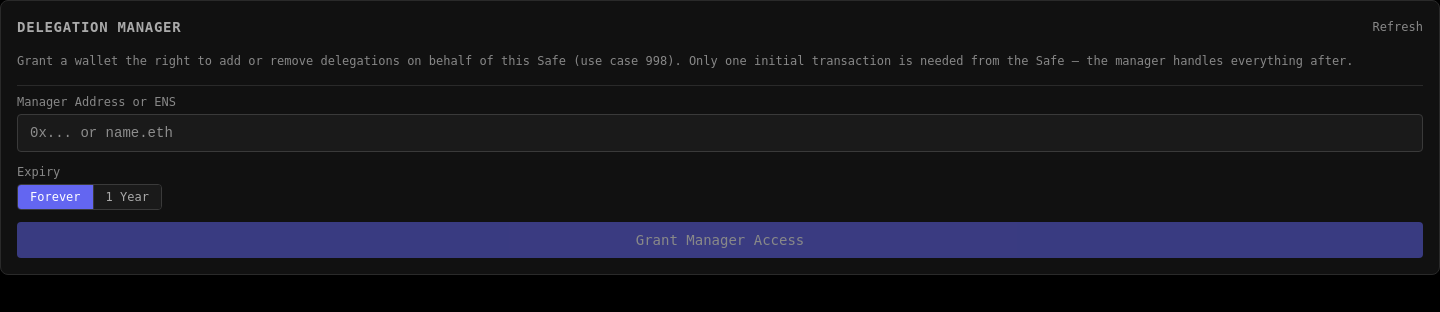
Test: DelegationManagerCard chain ID guard › blocks grant submission on wrong chain
The width and height of the screenshot is (1440, 312).
Type "0xabcdefabcdefabcdefabcdefabcdefabcdefabcd" into the field with placeholder "0x... or name.eth" at (720, 133), box [17,114,1423,152]
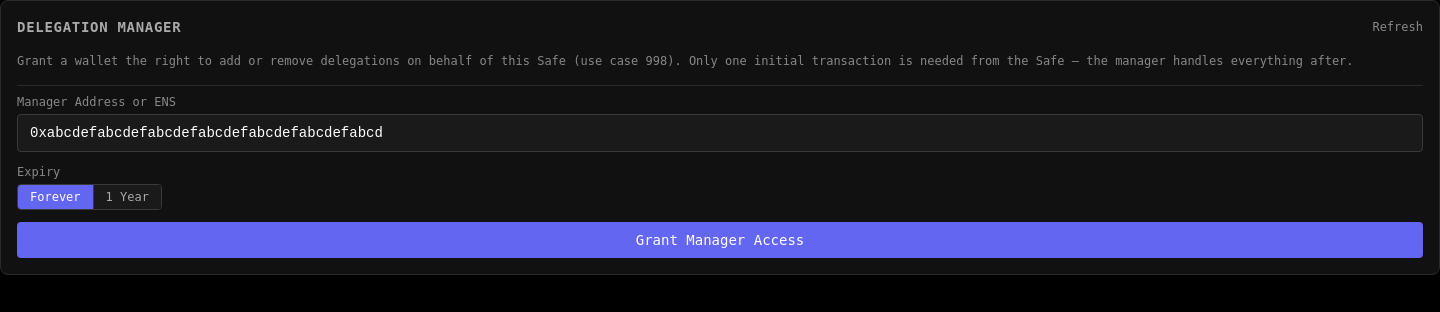
Click the button "Grant Manager Access" at (720, 240), box [17,222,1423,258]
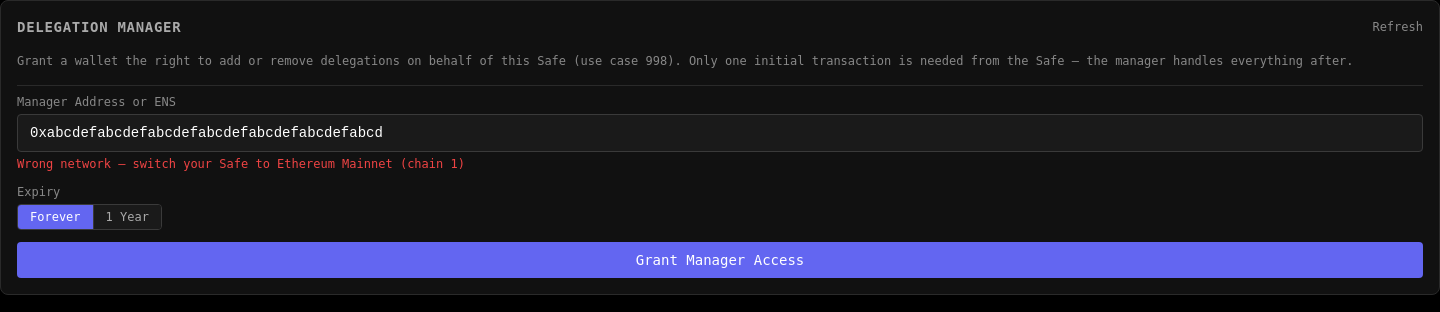
Expected: the text "Wrong network — switch your Safe to Ethereum Mainnet (chain 1)" is shown, [17,157,465,171]
